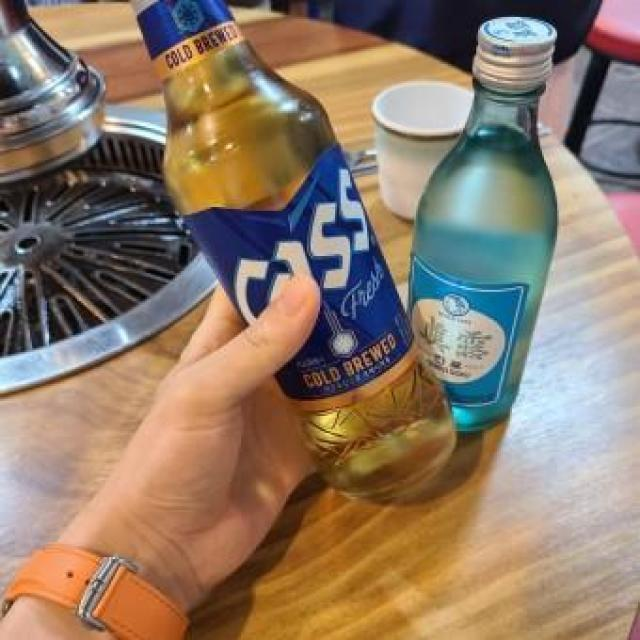beer-bottle: (111, 0, 459, 512)
soju-bottle: (407, 12, 587, 430)
